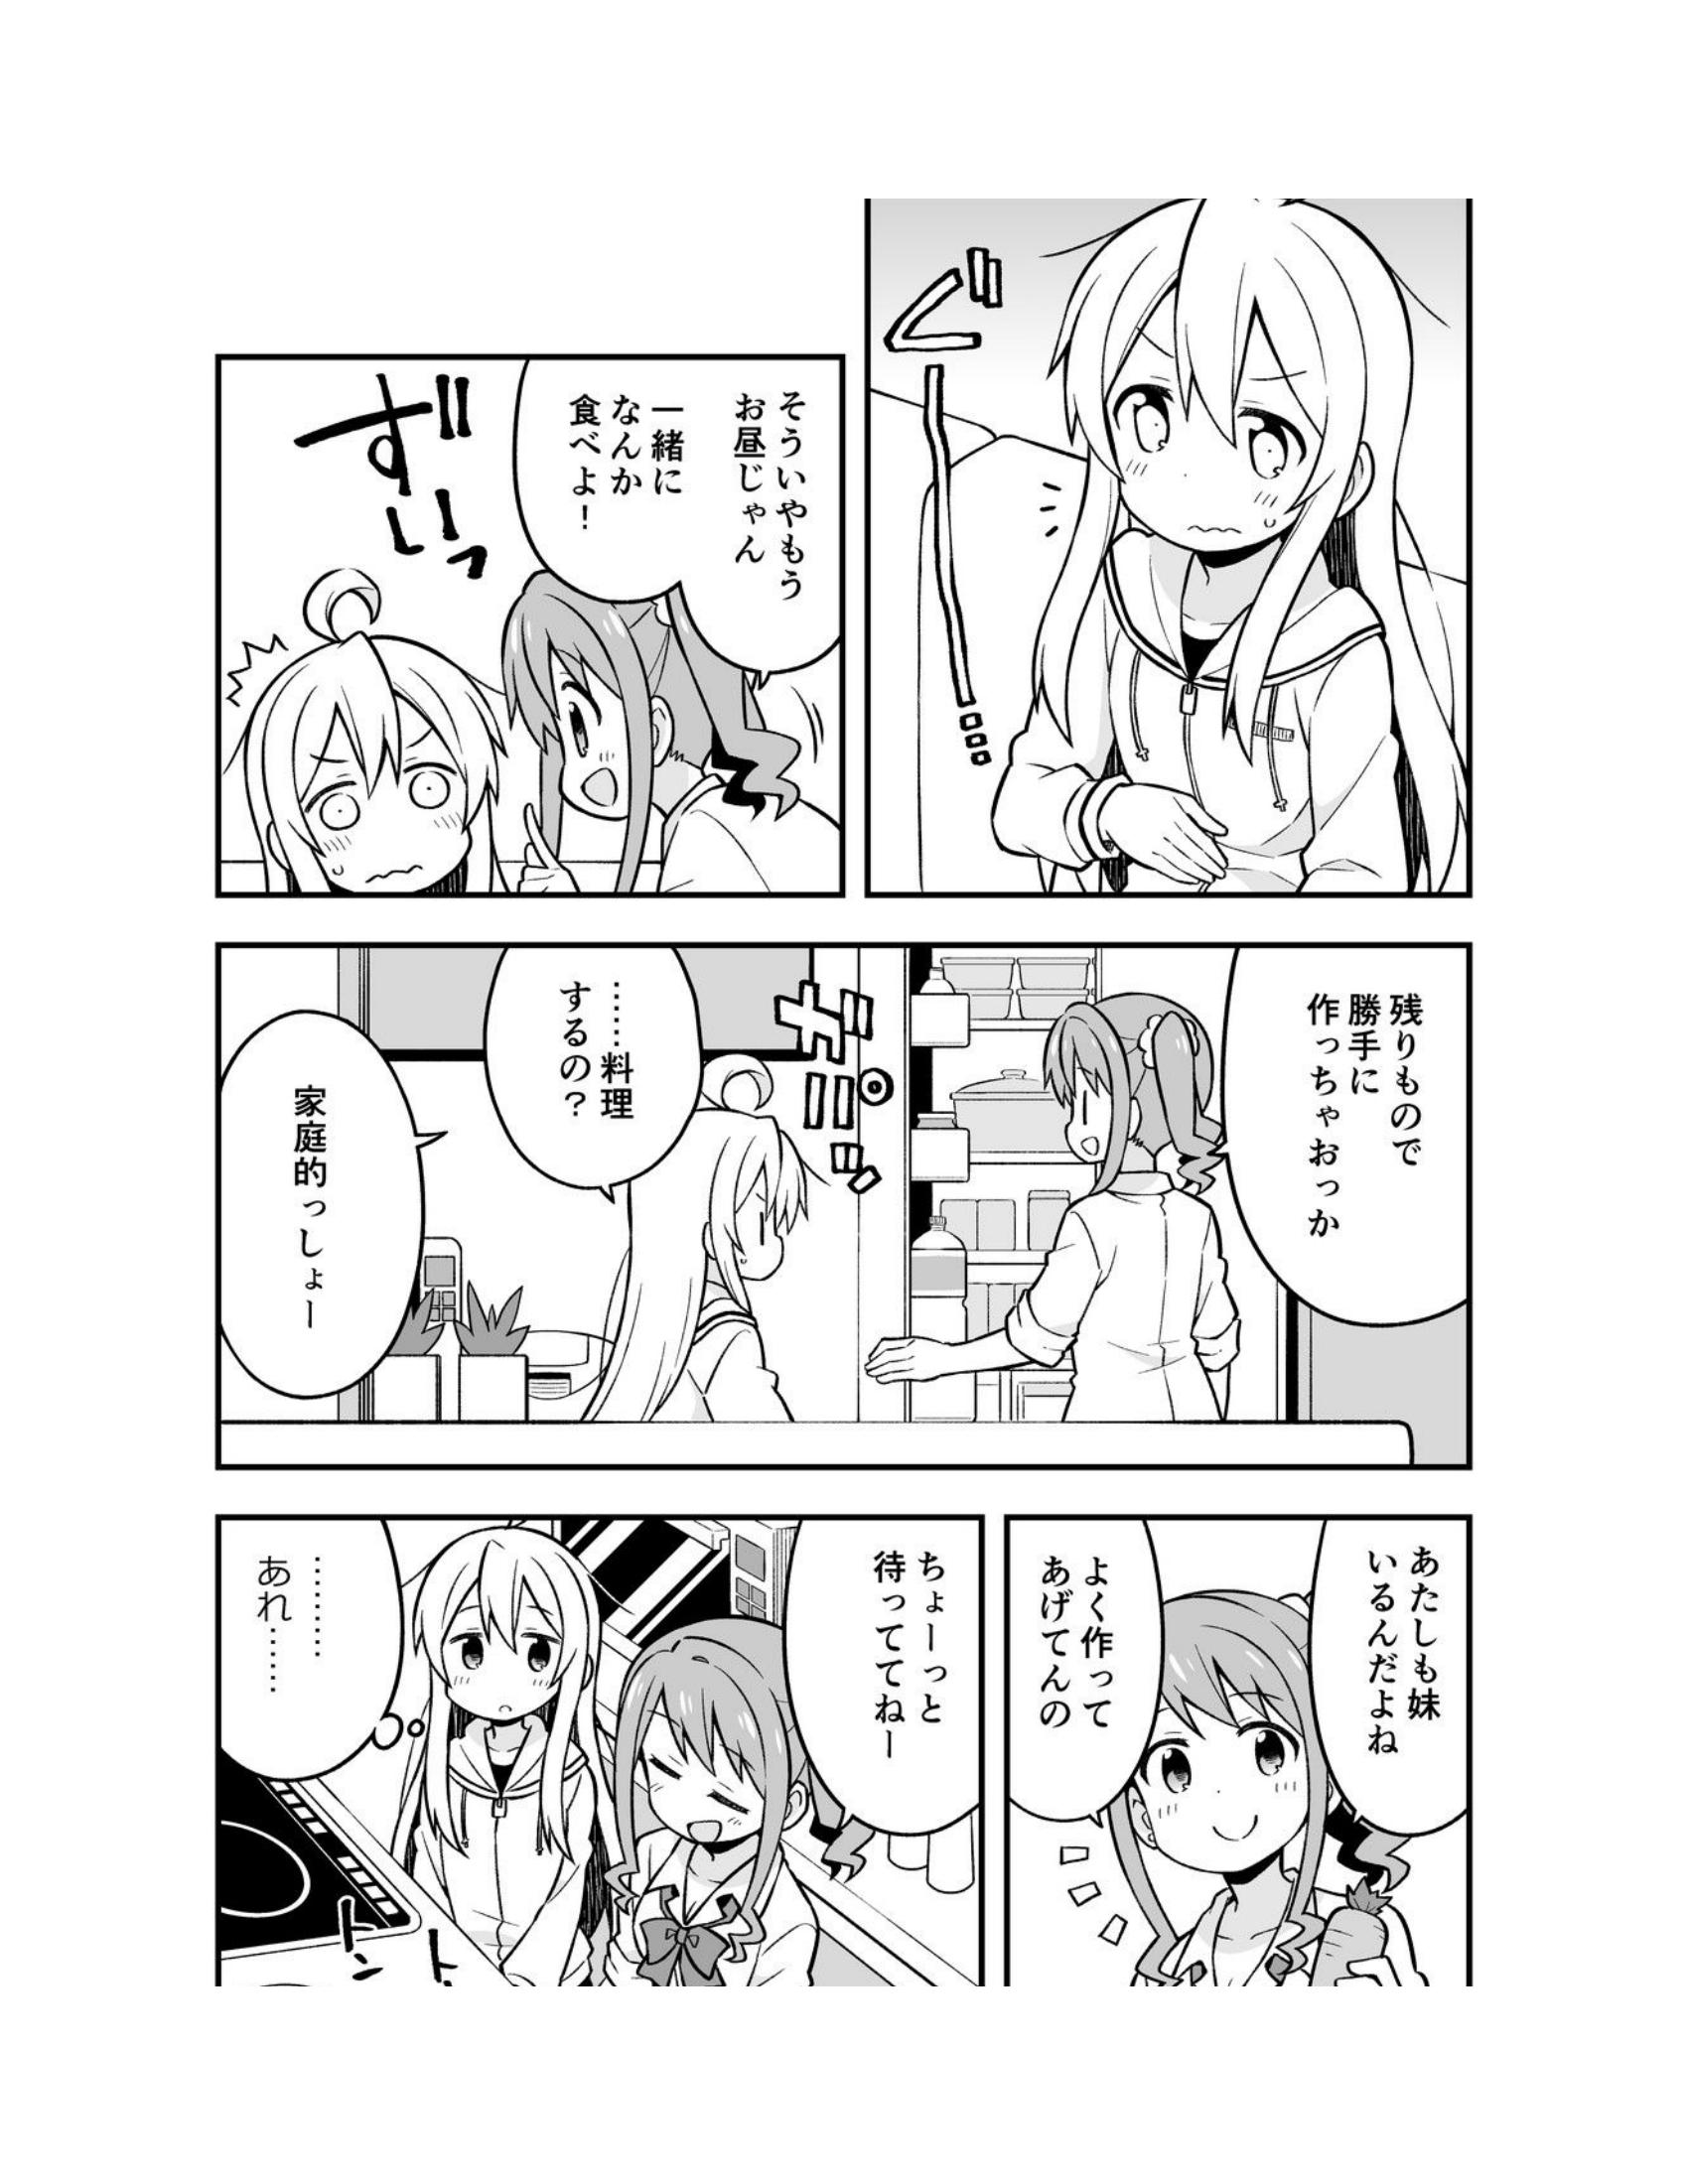a: (1190, 929, 1486, 1337), (507, 363, 860, 690), (227, 989, 410, 1443), (463, 925, 695, 1228), (785, 1501, 975, 1840), (1309, 1510, 1482, 1851), (211, 1510, 422, 1790), (1009, 1525, 1177, 1835)
